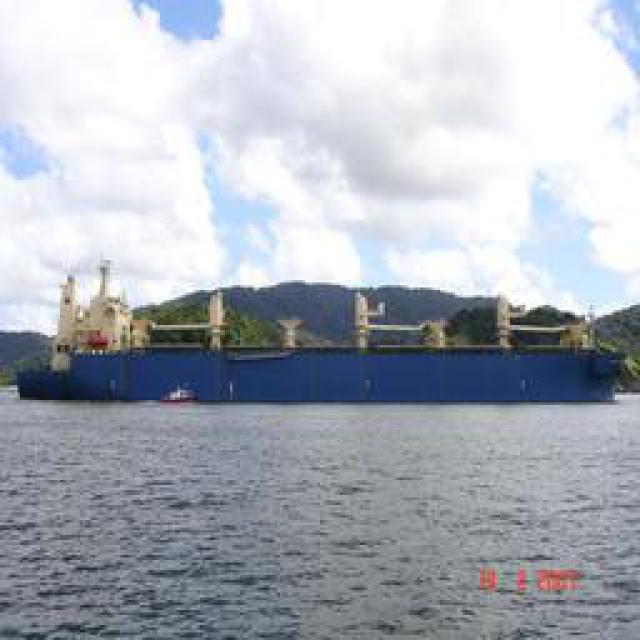Ship: (19, 276, 629, 409)
